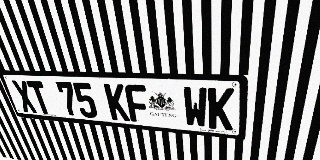5: (72, 82, 99, 119)
7: (54, 82, 82, 117)
F: (124, 84, 150, 123)
K: (208, 87, 234, 130), (103, 83, 130, 121)
T: (26, 81, 53, 115)
W: (182, 86, 208, 128)
X: (11, 80, 38, 113)
